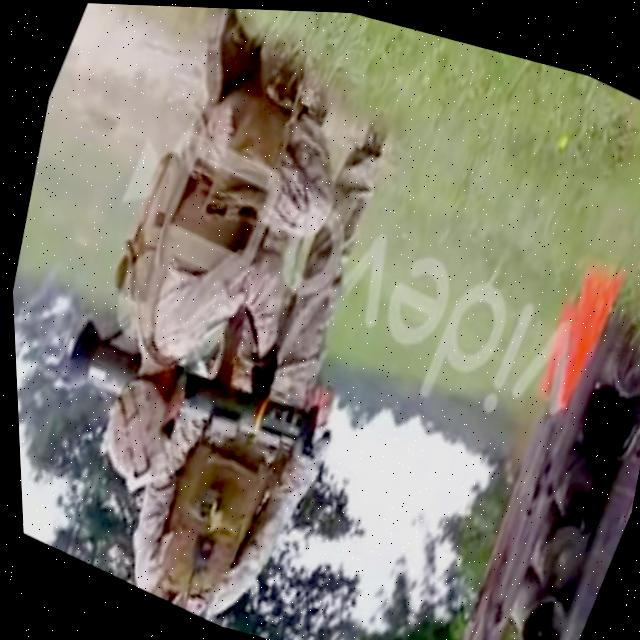rocket: (42, 302, 337, 494)
